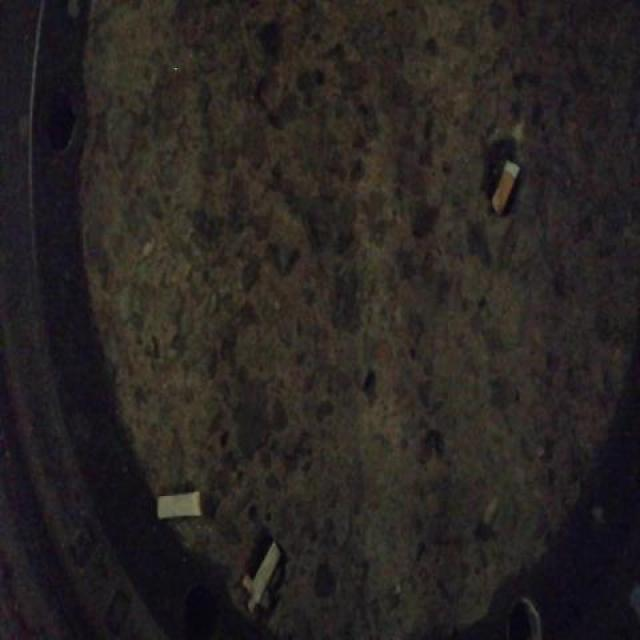non-organic waste: (247, 536, 284, 611), (485, 155, 523, 221), (152, 486, 208, 530)
